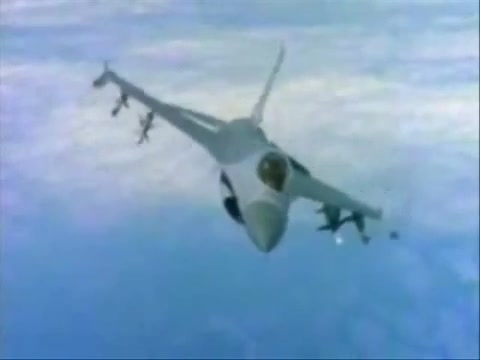aeroplane: (92, 40, 401, 256)
